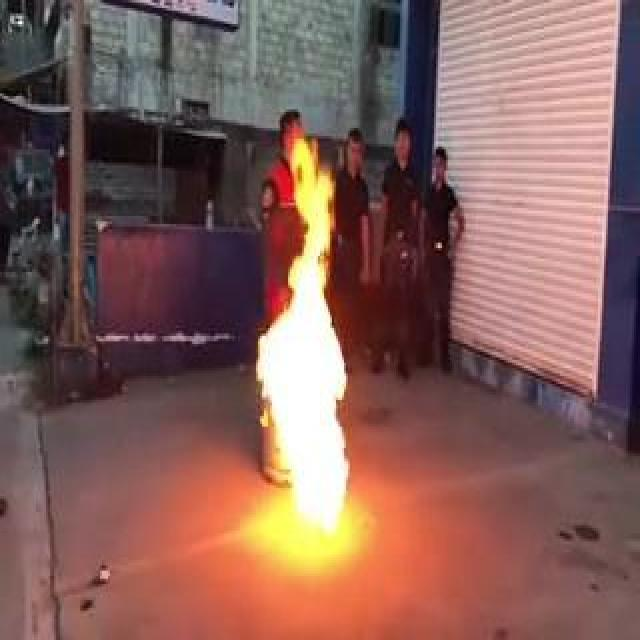Fire: (254, 139, 357, 524)
